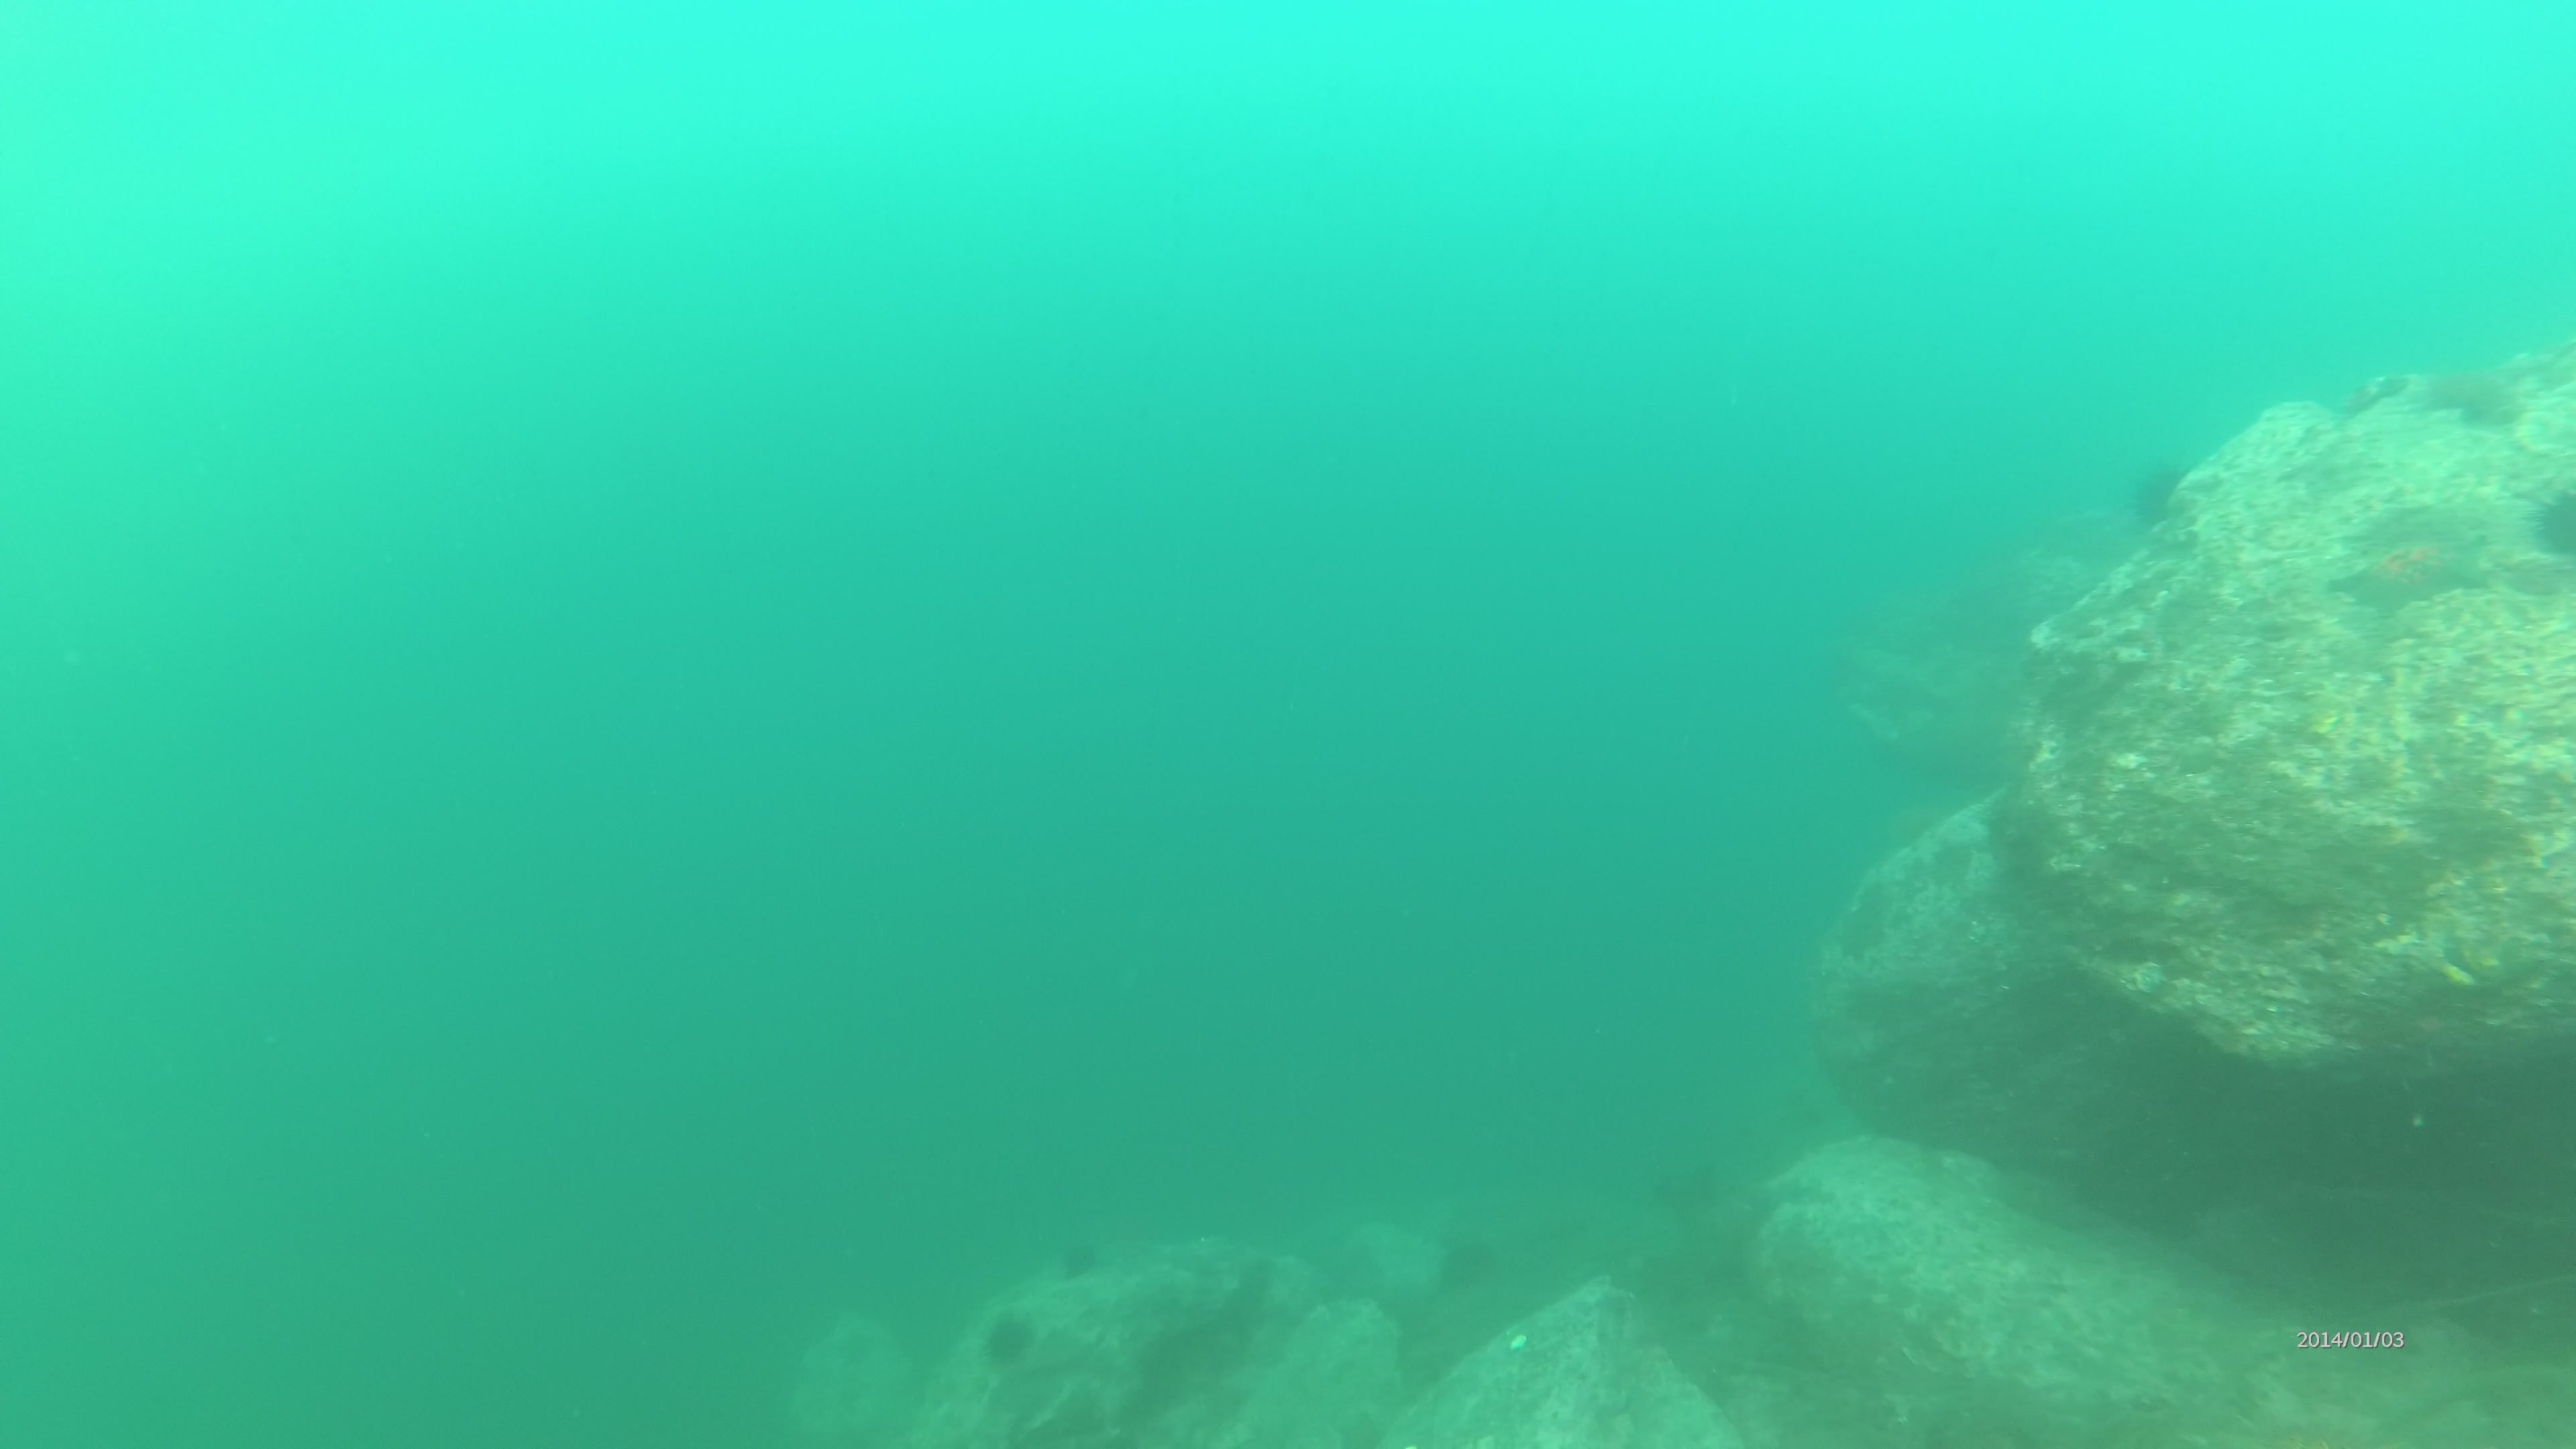echinus: (2429, 356, 2521, 425), (980, 1313, 1042, 1362), (2134, 465, 2185, 517)
starfish: (2334, 525, 2495, 614)
